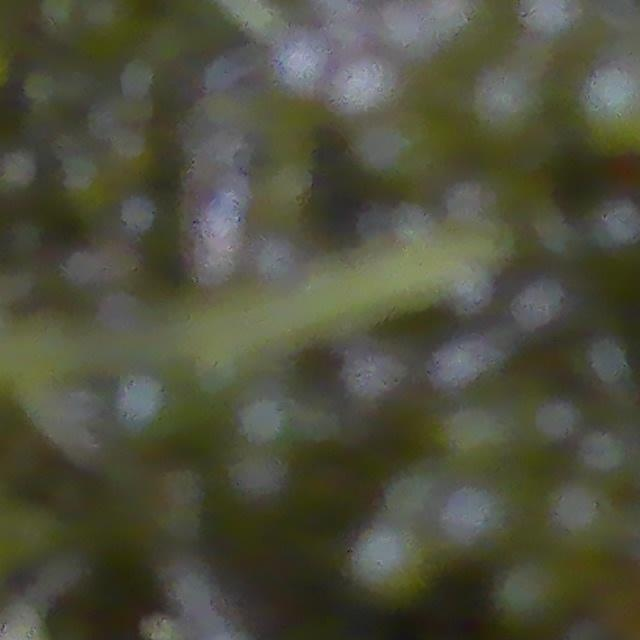SeaGrape: (341, 518, 435, 612), (432, 478, 523, 567), (491, 552, 579, 636), (466, 64, 549, 148), (540, 476, 623, 560), (573, 63, 640, 155)
